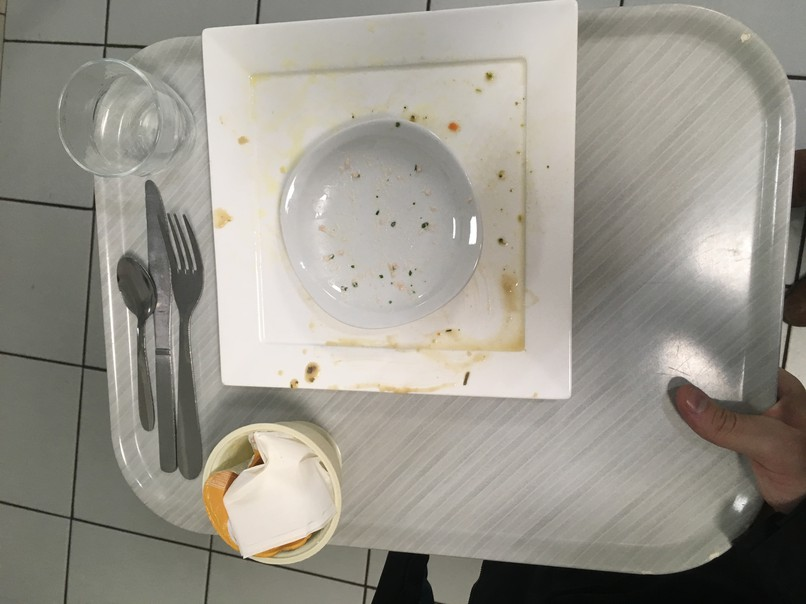cup: (43, 59, 202, 189)
cutlery: (151, 210, 209, 485), (134, 181, 186, 481), (103, 251, 161, 433)
trash: (238, 443, 333, 549), (196, 442, 234, 553), (216, 408, 340, 442)
